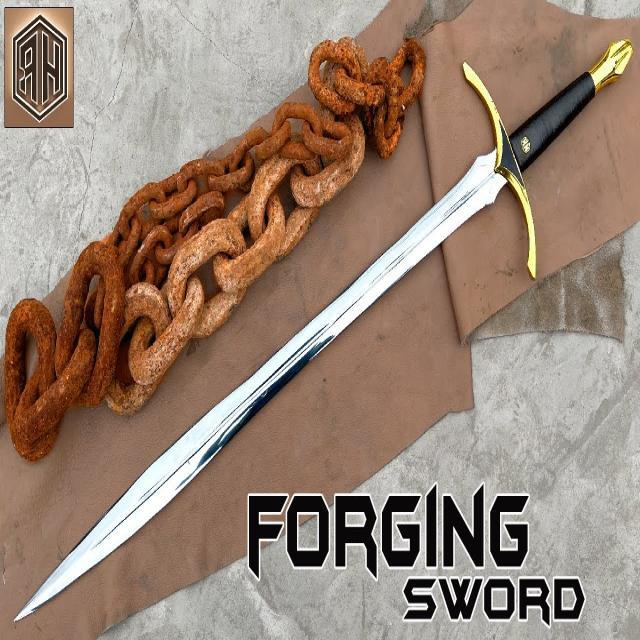sword: (8, 14, 639, 632)
